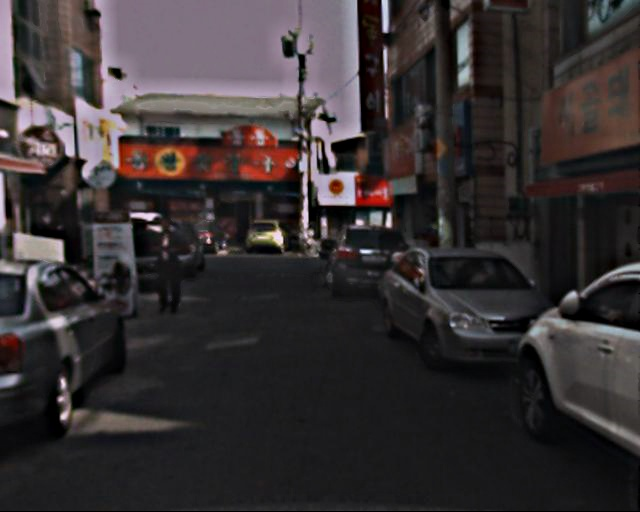person: (149, 216, 194, 317)
